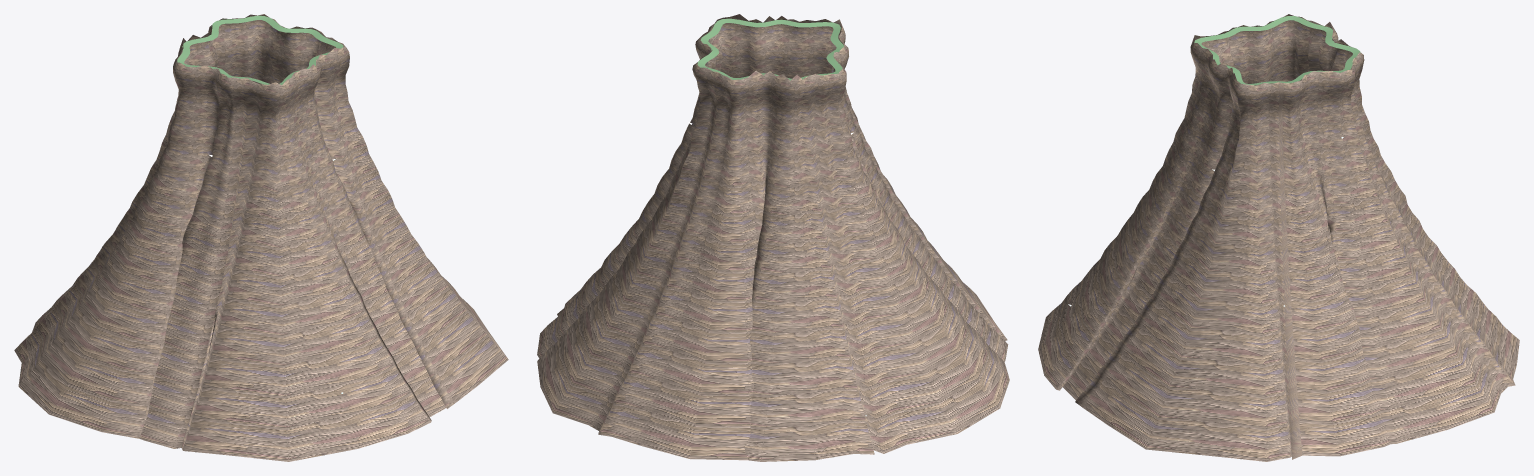
The model's file is CliffWall_stack_06.glb.
3 views of the same model, side by side, from view 1: azimuth 30°, elevation 25°; view 2: azimuth 150°, elevation 25°; view 3: azimuth 270°, elevation 25° (orthographic).
Visible parts, largest first — view 1: CliffWall_stack_06-rock0, CliffWall_stack_06-lip0; view 2: CliffWall_stack_06-rock0, CliffWall_stack_06-lip0; view 3: CliffWall_stack_06-rock0, CliffWall_stack_06-lip0.
Part boxes in pixels (x1,y1,x2,y2): CliffWall_stack_06-rock0: (14,14,508,461); CliffWall_stack_06-lip0: (177,15,343,84); CliffWall_stack_06-rock0: (537,14,1009,461); CliffWall_stack_06-lip0: (697,18,843,80); CliffWall_stack_06-rock0: (1038,14,1519,461); CliffWall_stack_06-lip0: (1194,16,1360,85).
Size of the model in its own units: 581 by 406 by 565.
4 materials, 1 textured.
